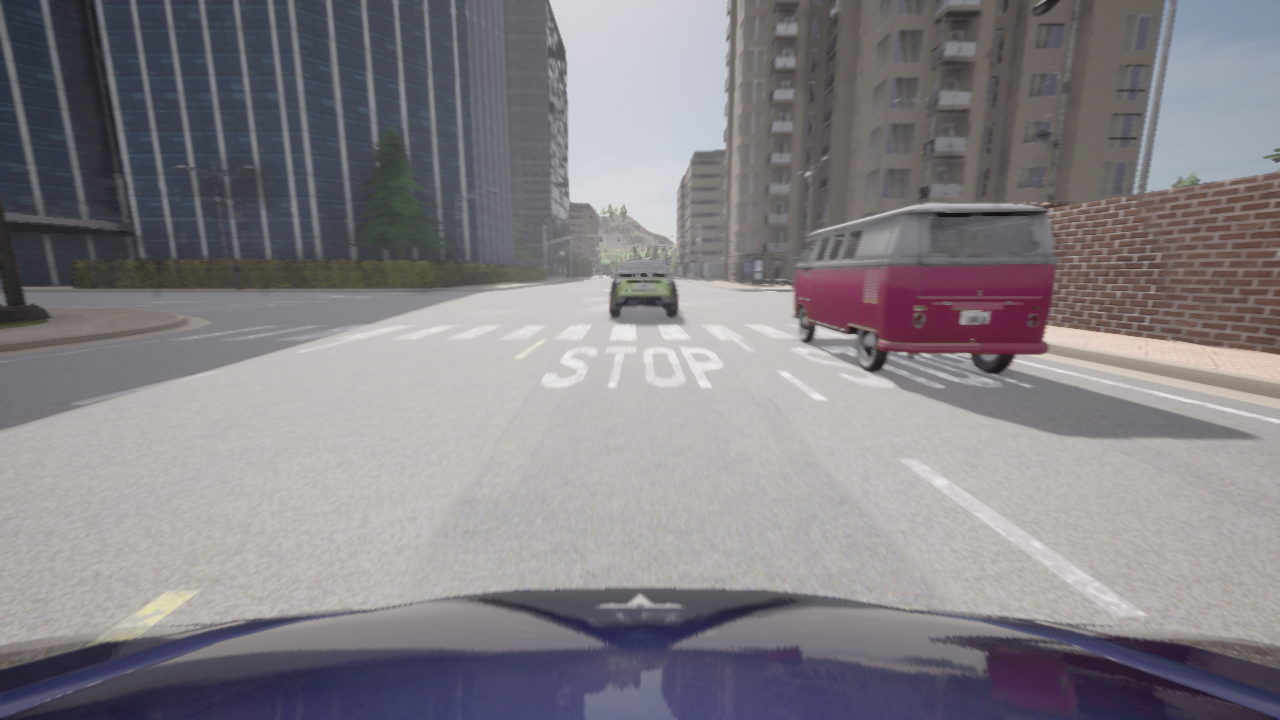cyclist: (0, 588, 1279, 719), (790, 203, 1056, 372), (610, 261, 677, 316)
pedestrian: (230, 259, 241, 288)
